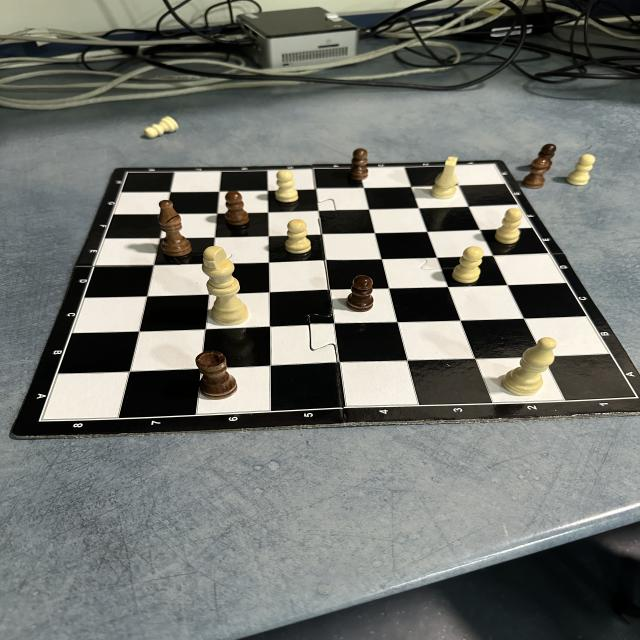Black-Bishop: (158, 200, 193, 256)
Black-Pawn: (347, 276, 374, 312), (224, 190, 250, 227), (524, 159, 551, 188), (534, 144, 556, 171), (350, 149, 368, 180)
Black-Rook: (197, 351, 238, 398)
White-Bishop: (503, 336, 557, 395)
White-King: (202, 245, 248, 325)
White-Knight: (431, 156, 459, 199)
White-Pawn: (453, 245, 483, 283), (495, 207, 521, 244), (567, 154, 594, 186), (286, 220, 311, 253), (144, 116, 178, 139), (275, 170, 298, 203)
